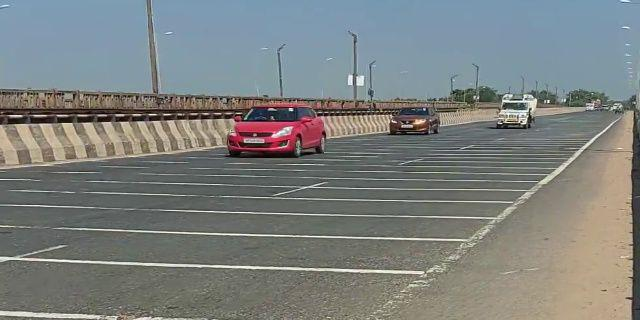Car: (222, 100, 330, 159), (385, 102, 442, 138)
Minitruck: (492, 89, 539, 132)
